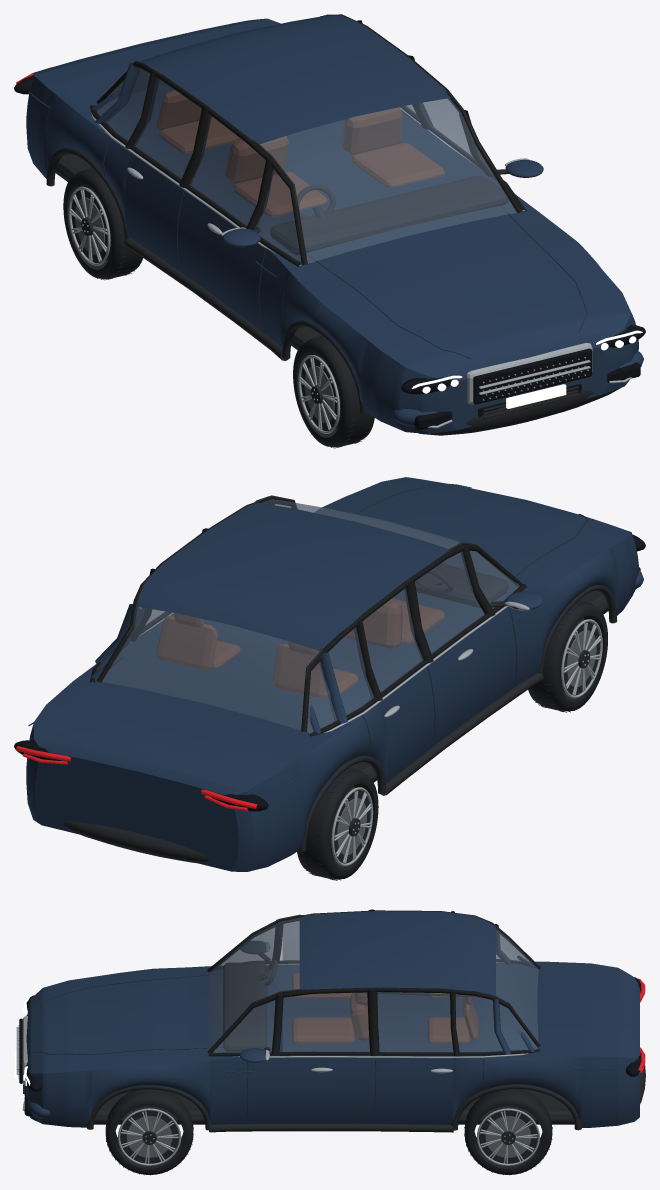
File: Rheydt_Limousine.glb
The picture shows the model from 3 angles, top to bottom: view 1: azimuth 30°, elevation 25°; view 2: azimuth 150°, elevation 25°; view 3: azimuth 270°, elevation 25°; orthographic projection. The views are drawn at different scales.
Parts seen in each view (by area): view 1: Haube_und_Schulterlinie, Karosserie_Seite, Dach_und_Scheibenprofil, Dachblech, Armaturenbrett, Rad_Vorne_L_Mesh, Rad_Hinten_L_Mesh, Seitenscheibe_1, Seitenscheibe_2, Grilleinsatz, Sitzflaeche.002, Seitenscheibe_0 (+23 smaller); view 2: Haube_und_Schulterlinie, Dachblech, Karosserie_Seite, Dach_und_Scheibenprofil, Heckabschluss, Rad_Hinten_L_Mesh, Rad_Vorne_L_Mesh, Seitenscheibe_1, Seitenscheibe_2, Sitzlehne.003, Seitenscheibe_3, Heckdiffusor (+20 smaller); view 3: Haube_und_Schulterlinie, Karosserie_Seite.001, Dachblech, Dach_und_Scheibenprofil, Rad_Vorne_R_Mesh, Rad_Hinten_R_Mesh, Seitenscheibe_1.001, Seitenscheibe_2.001, Armaturenbrett, Seitenscheibe_3.001, Schweller.001, Unterboden (+20 smaller).
Boxes of the visible parts, box(x1,y1,x2,y2) form: Haube_und_Schulterlinie: box(34, 18, 631, 381); Karosserie_Seite: box(26, 73, 456, 433); Dach_und_Scheibenprofil: box(108, 69, 516, 263); Dachblech: box(139, 15, 450, 144); Armaturenbrett: box(270, 175, 508, 254); Rad_Vorne_L_Mesh: box(293, 336, 374, 448); Rad_Hinten_L_Mesh: box(63, 168, 142, 280); Seitenscheibe_1: box(189, 115, 265, 225); Seitenscheibe_2: box(134, 78, 201, 178); Grilleinsatz: box(473, 348, 592, 404); Sitzflaeche.002: box(351, 143, 444, 187); Seitenscheibe_0: box(255, 169, 300, 260); Haube_und_Schulterlinie: box(34, 477, 630, 794); Dachblech: box(137, 502, 448, 651); Karosserie_Seite: box(232, 532, 638, 871); Dach_und_Scheibenprofil: box(102, 499, 510, 730); Heckabschluss: box(34, 752, 238, 871); Rad_Hinten_L_Mesh: box(297, 768, 378, 880); Rad_Vorne_L_Mesh: box(528, 600, 607, 712); Seitenscheibe_1: box(415, 551, 484, 653); Seitenscheibe_2: box(362, 588, 423, 692); Sitzlehne.003: box(156, 615, 217, 670); Seitenscheibe_3: box(328, 627, 374, 715); Heckdiffusor: box(63, 821, 209, 862); Haube_und_Schulterlinie: box(26, 961, 639, 1073); Karosserie_Seite.001: box(26, 1056, 639, 1127); Dachblech: box(299, 911, 495, 995); Dach_und_Scheibenprofil: box(209, 918, 538, 1049); Rad_Vorne_R_Mesh: box(105, 1089, 193, 1175); Rad_Hinten_R_Mesh: box(464, 1089, 552, 1175); Seitenscheibe_1.001: box(282, 992, 369, 1051); Seitenscheibe_2.001: box(378, 992, 453, 1052); Armaturenbrett: box(223, 962, 267, 1051); Seitenscheibe_3.001: box(455, 994, 502, 1052); Schweller.001: box(209, 1123, 453, 1132); Unterboden: box(94, 1089, 574, 1124).
Bounding box in the file's own units: 2.23 × 1.57 × 4.95.
